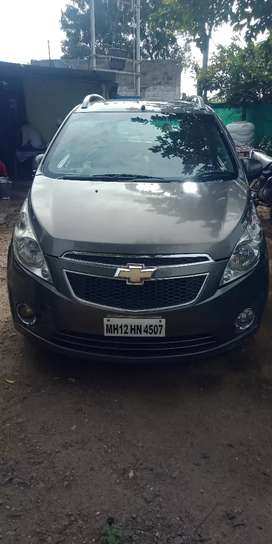MH12HN4507: (104, 319, 165, 336)
